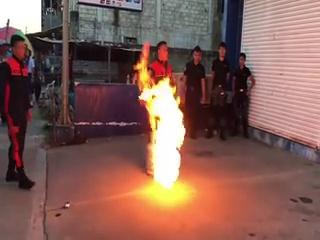Fire: (134, 55, 190, 189)
